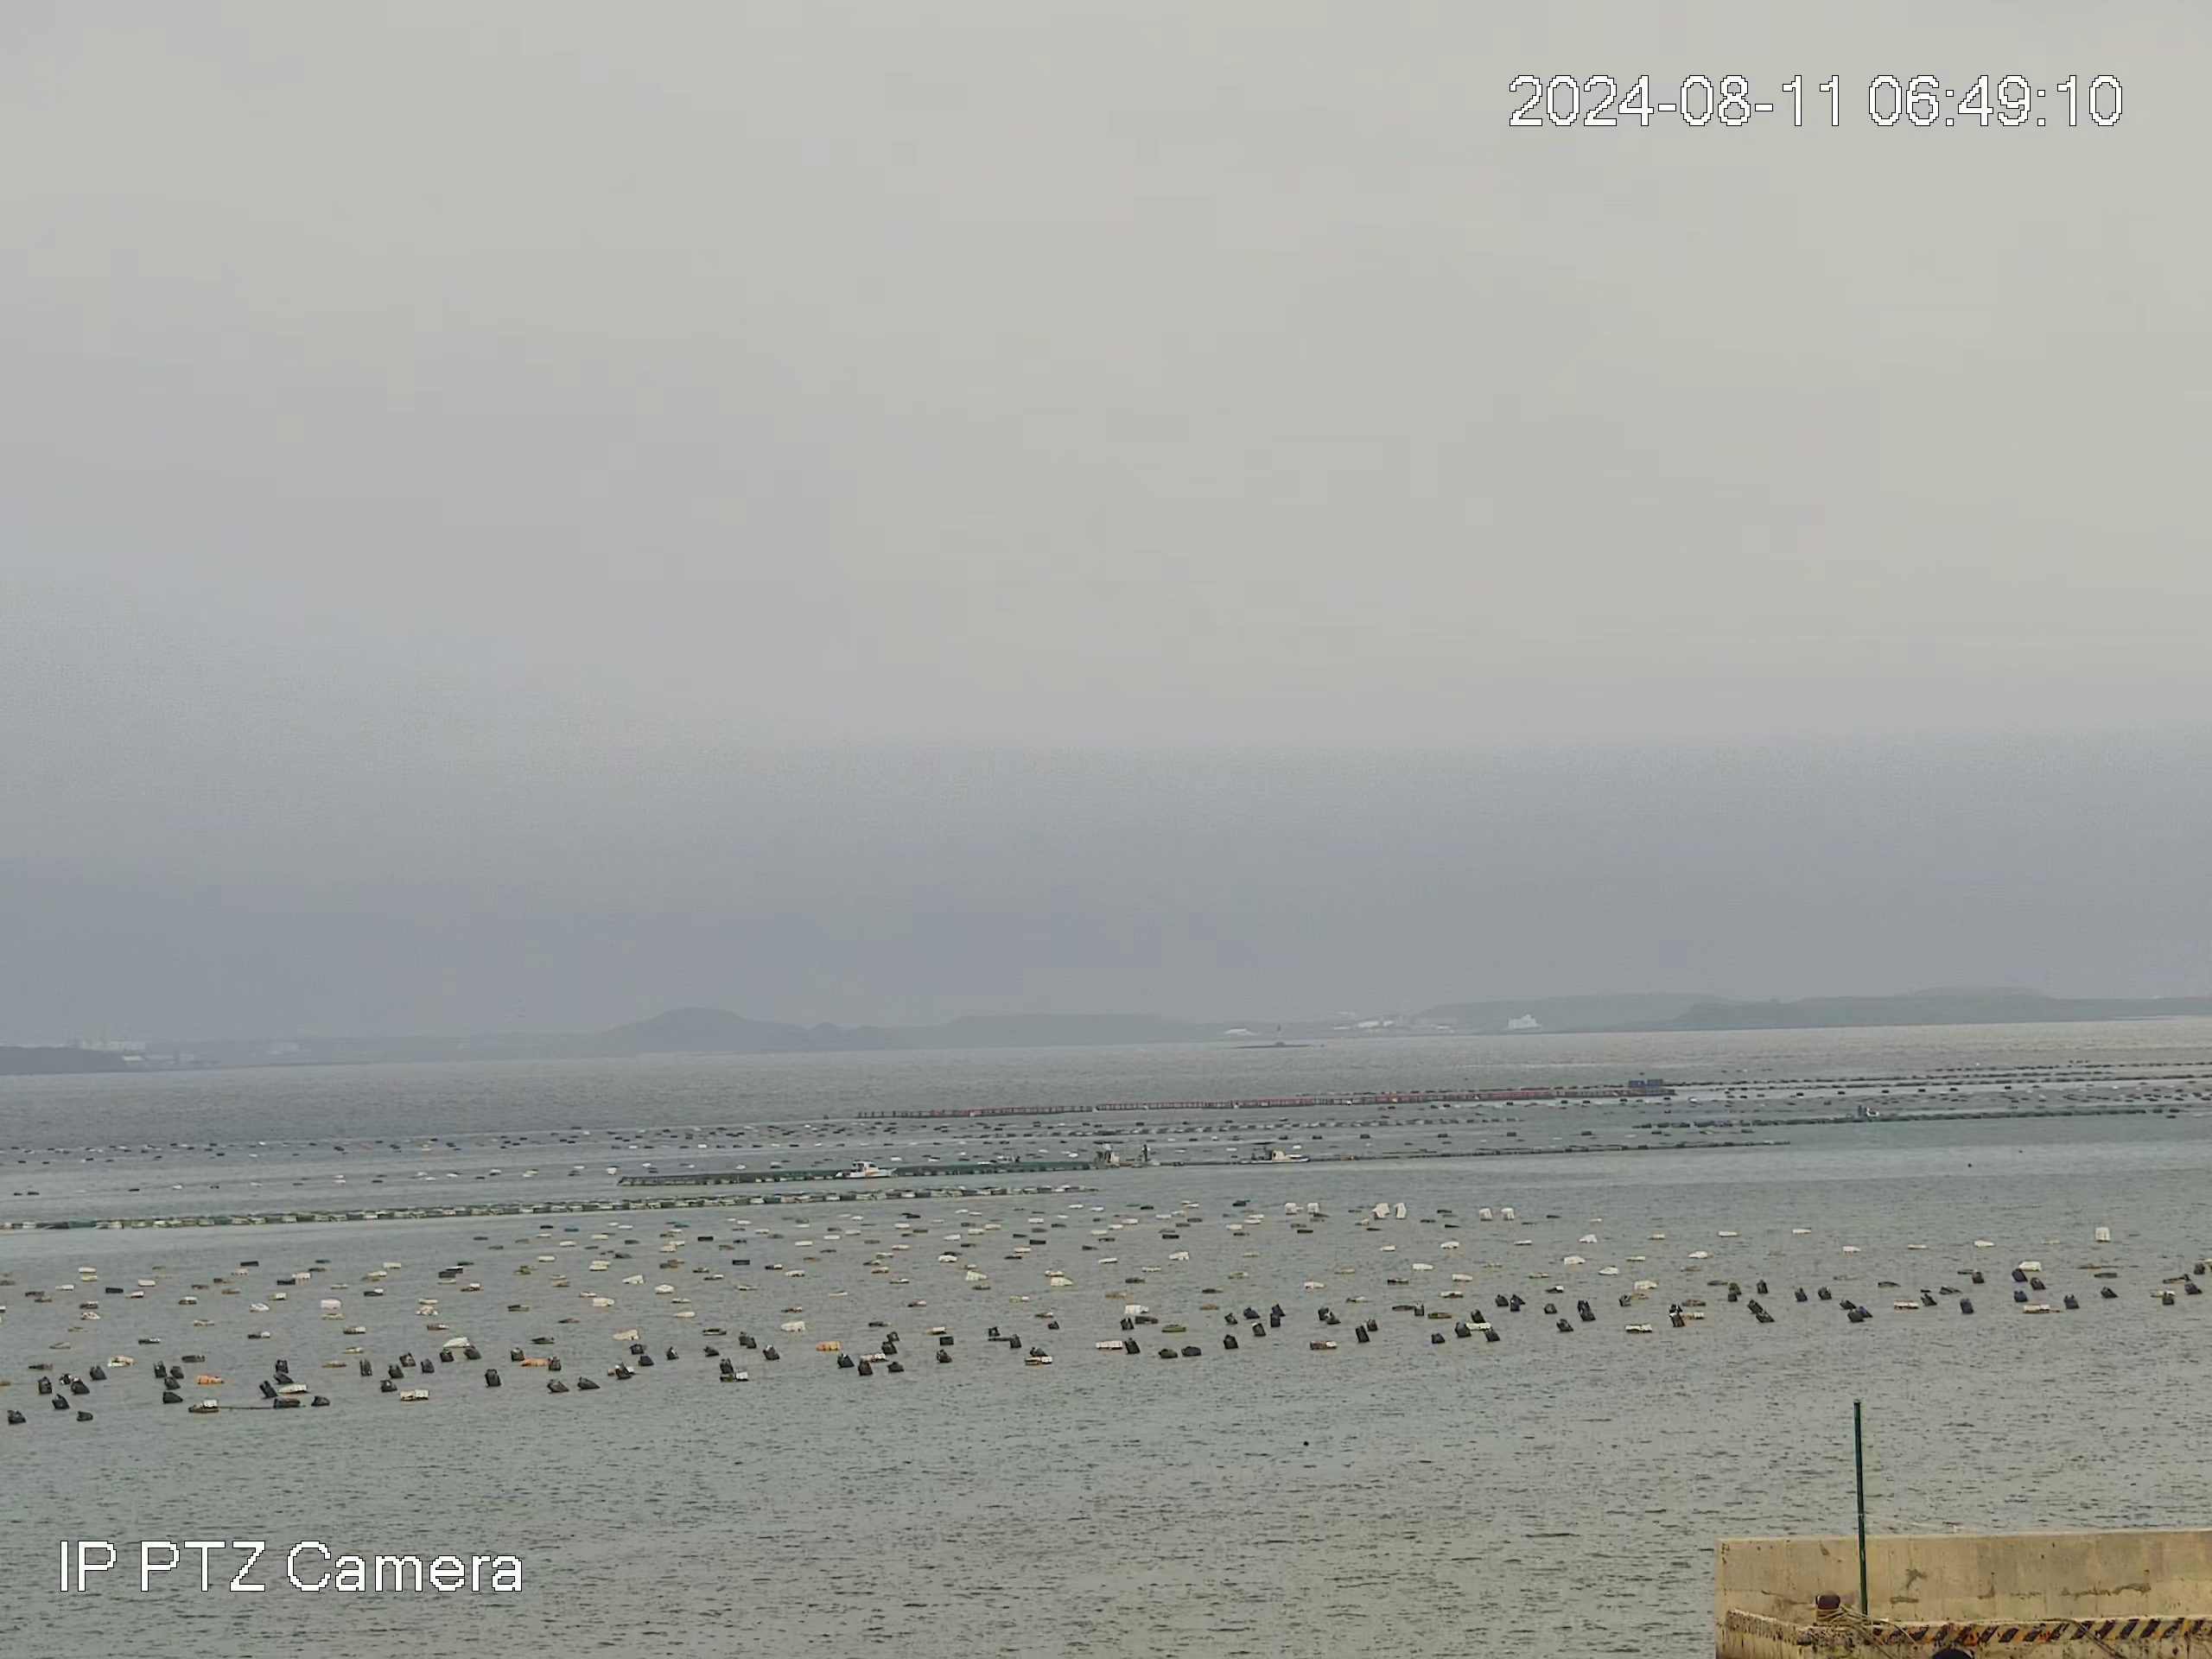boat: (833, 1159, 895, 1180), (1235, 1148, 1310, 1164)
